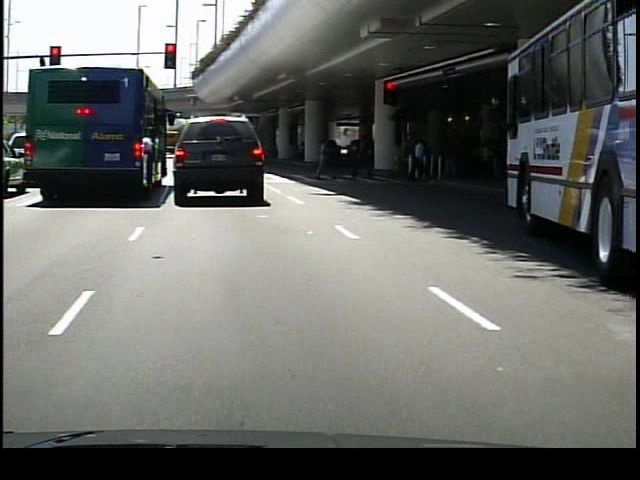person: (313, 132, 340, 181), (354, 129, 378, 184), (409, 135, 429, 186)
